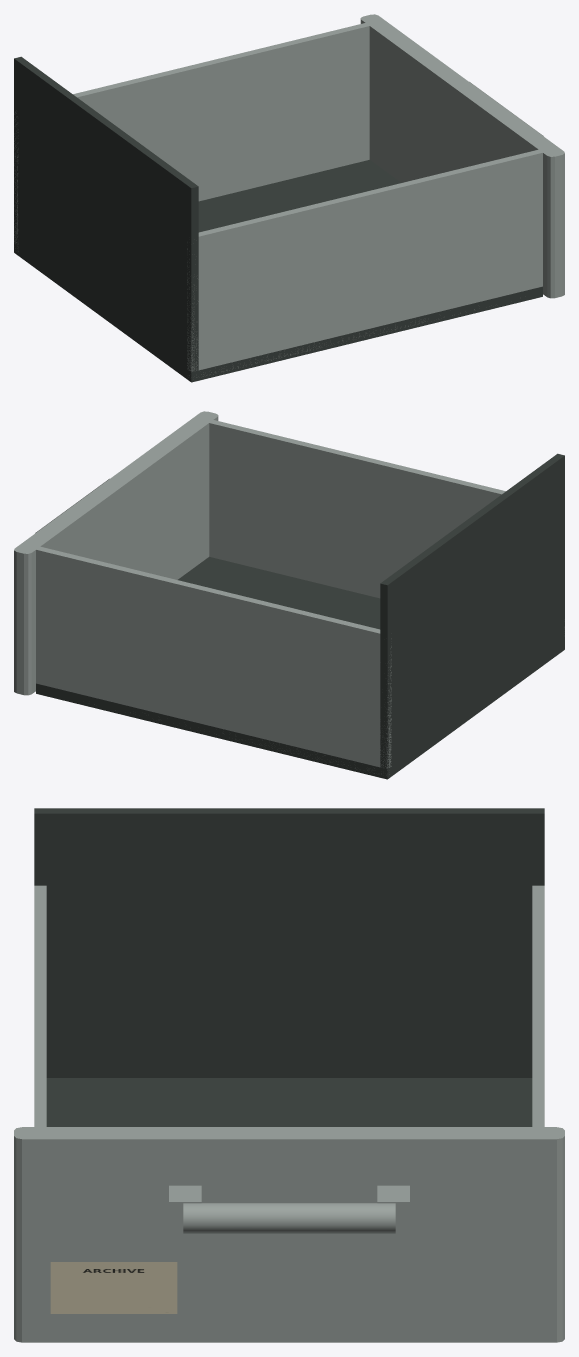
The model's file is SM_ArchiveProps_FireDrawer_LOD1.glb.
The picture shows the model from 3 angles, top to bottom: view 1: azimuth 30°, elevation 25°; view 2: azimuth 150°, elevation 25°; view 3: azimuth 270°, elevation 25°; orthographic projection. The views are drawn at different scales.
Visible parts, largest first — view 1: SM_ArchiveProps_FireDrawer_LOD1; view 2: SM_ArchiveProps_FireDrawer_LOD1; view 3: SM_ArchiveProps_FireDrawer_LOD1.
Part boxes in pixels (x1,y1,x2,y2): SM_ArchiveProps_FireDrawer_LOD1: (14, 14, 564, 382); SM_ArchiveProps_FireDrawer_LOD1: (14, 411, 564, 779); SM_ArchiveProps_FireDrawer_LOD1: (14, 808, 564, 1342).
Size of the model in its own units: 0.331 by 0.151 by 0.27.
Materials: 3 (1 with a texture image).
